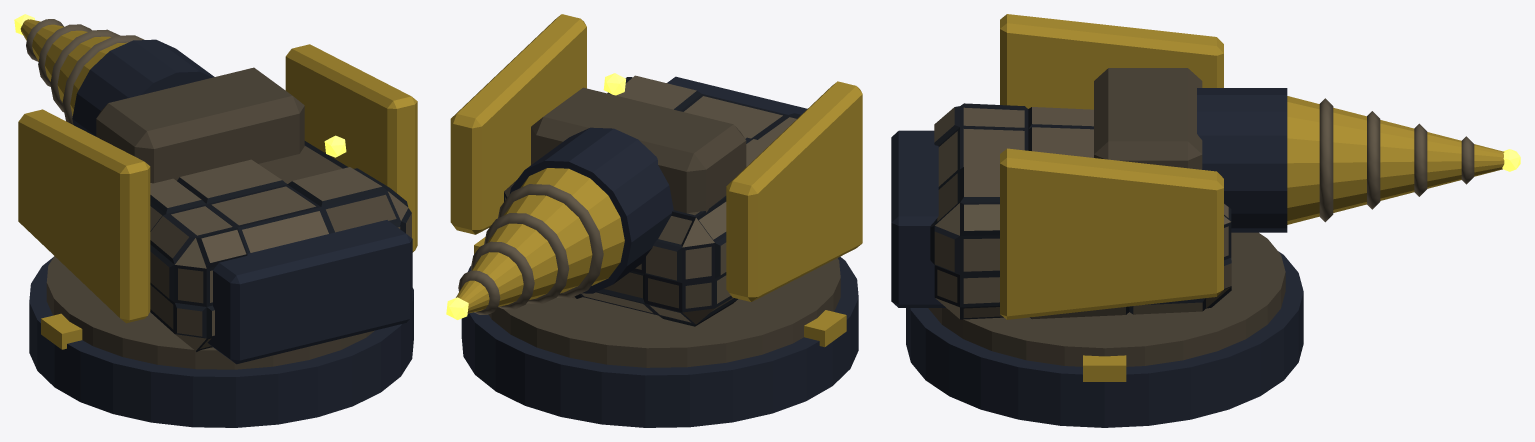
Rendered from turret_deep_core_drills.glb.
3 renders of one model, left to right at view 1: azimuth 30°, elevation 25°; view 2: azimuth 150°, elevation 25°; view 3: azimuth 270°, elevation 25°, orthographic. The views are drawn at different scales.
Parts seen in each view (by area): view 1: Yaw_mesh, Base_mesh, Pitch_mesh; view 2: Yaw_mesh, Base_mesh, Pitch_mesh; view 3: Yaw_mesh, Base_mesh, Pitch_mesh.
Boxes of the visible parts, x1,y1,x2,y2 form: Yaw_mesh: [18, 44, 417, 364]; Base_mesh: [29, 256, 413, 427]; Pitch_mesh: [14, 14, 304, 183]; Yaw_mesh: [450, 14, 862, 326]; Base_mesh: [461, 237, 858, 427]; Pitch_mesh: [446, 87, 746, 319]; Yaw_mesh: [891, 14, 1231, 319]; Base_mesh: [906, 232, 1303, 427]; Pitch_mesh: [1094, 68, 1520, 232].
Size of the model in its own units: 1.12 by 0.7876 by 1.74.
